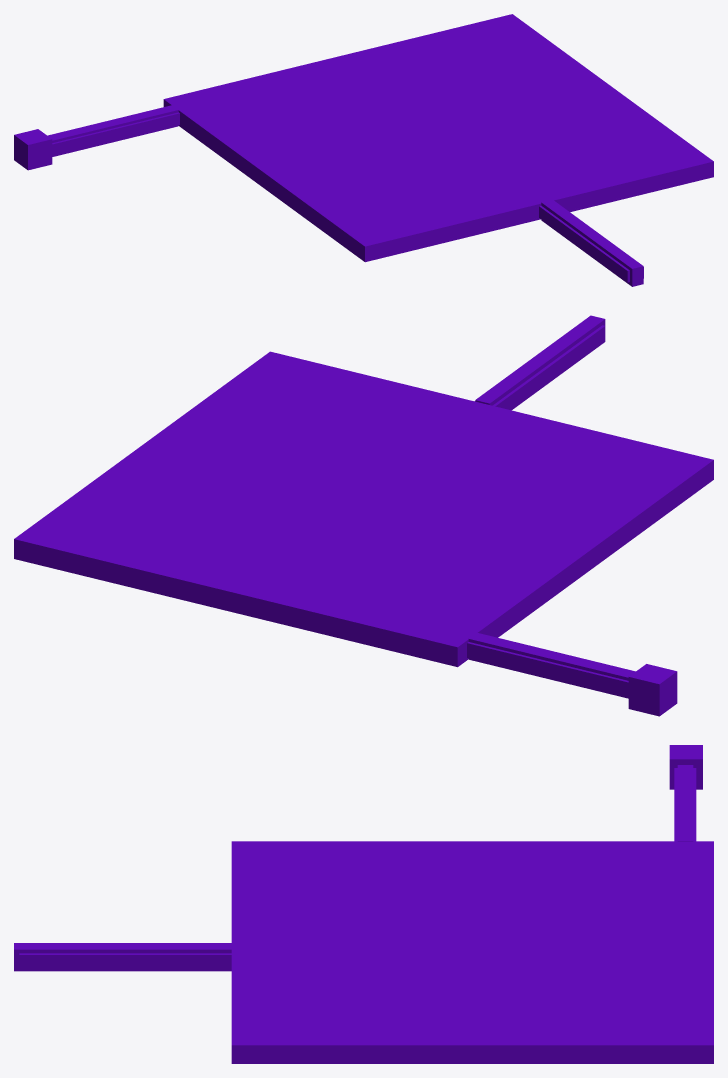
File: expbfa_bfa1.gltf
3 views of the same model, one above another, from view 1: azimuth 30°, elevation 25°; view 2: azimuth 150°, elevation 25°; view 3: azimuth 270°, elevation 25° (orthographic). The views are drawn at different scales.
Visible parts, largest first — view 1: Cube.018; view 2: Cube.018; view 3: Cube.018.
Part boxes in pixels (x1=…): Cube.018: x1=14, y1=14, x2=713, y2=286; Cube.018: x1=14, y1=315, x2=713, y2=716; Cube.018: x1=14, y1=745, x2=713, y2=1063.
Size of the model in its own units: 131 by 6.31 by 132.
